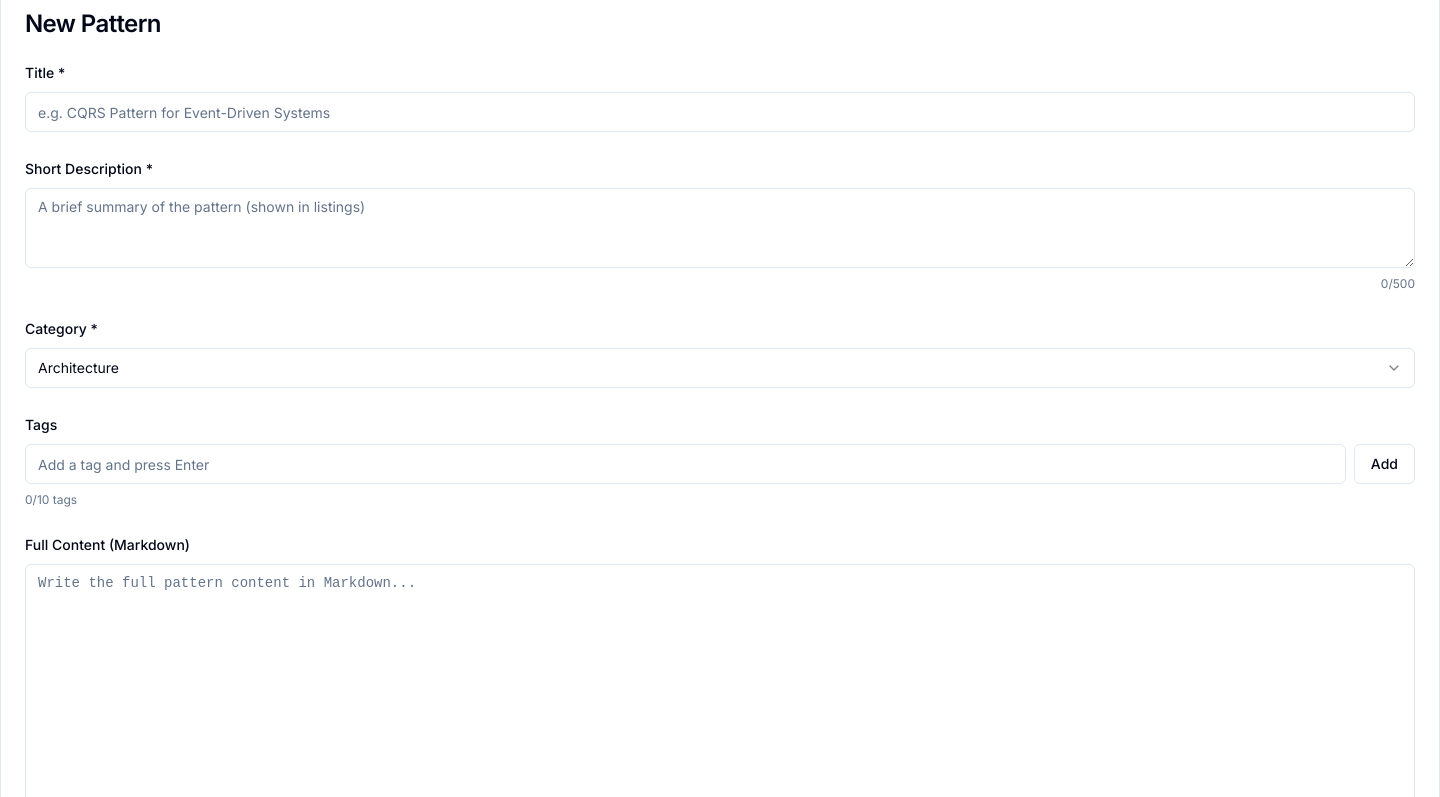
Scenario: PatternForm — create mode › shows short description validation error when empty
This screenshot has width=1440, height=797.
Type "Some Title" into the field labelled "Title *" at (720, 112), box [25, 92, 1415, 132]
(page scrolled)
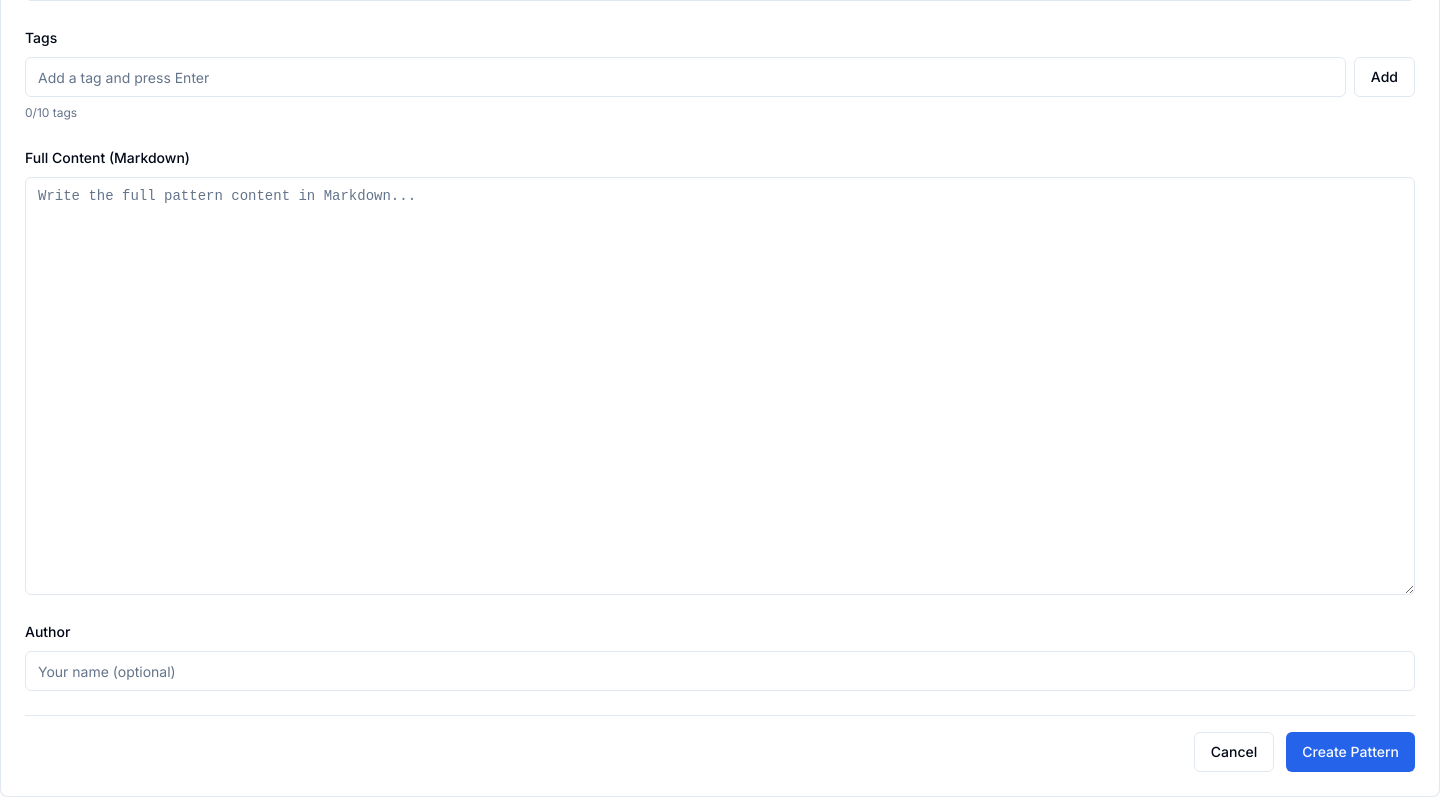
Click the button "Create Pattern" at (1351, 752), box [1286, 732, 1415, 772]
(page scrolled)
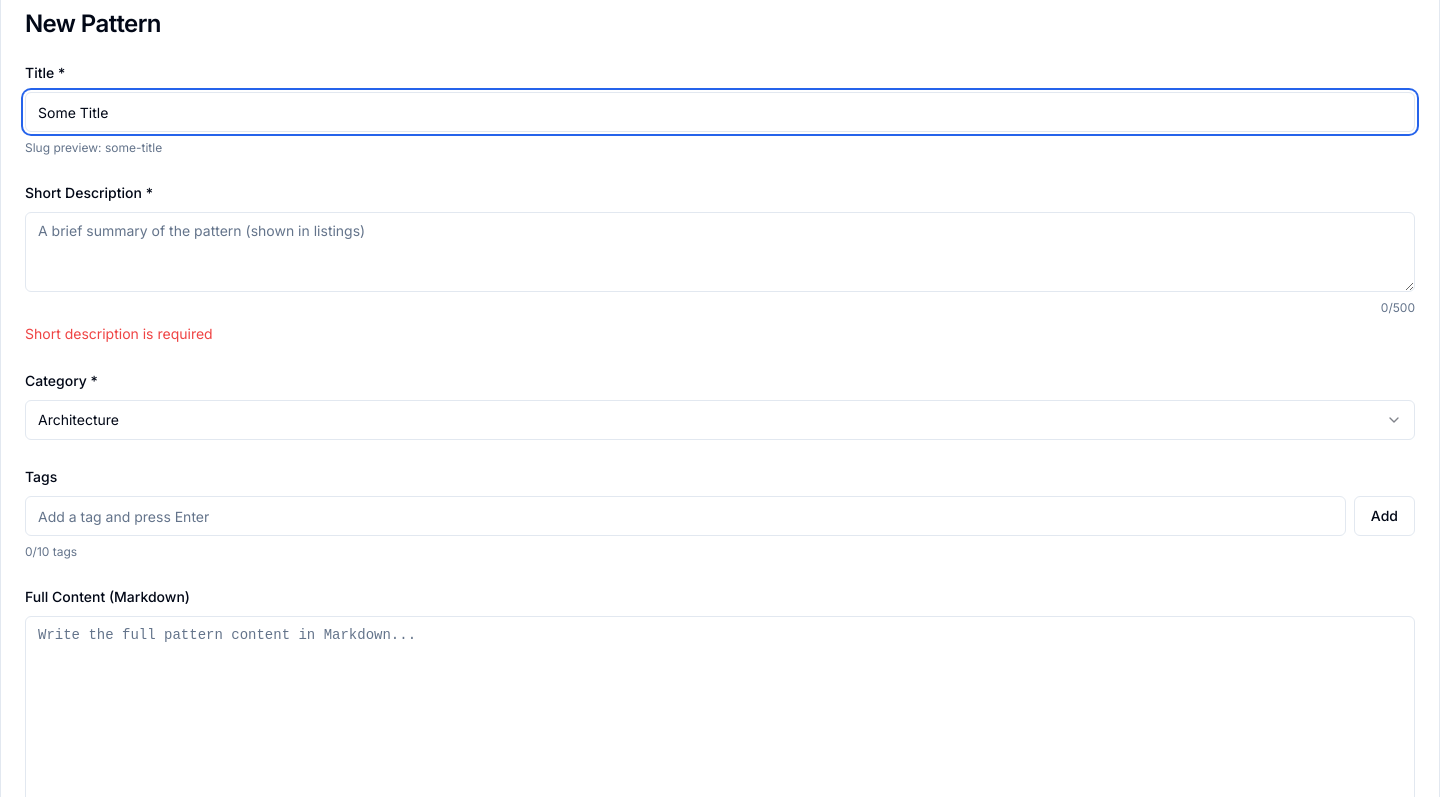
Check: the text "Short description is required" is shown, box [25, 325, 213, 342]
